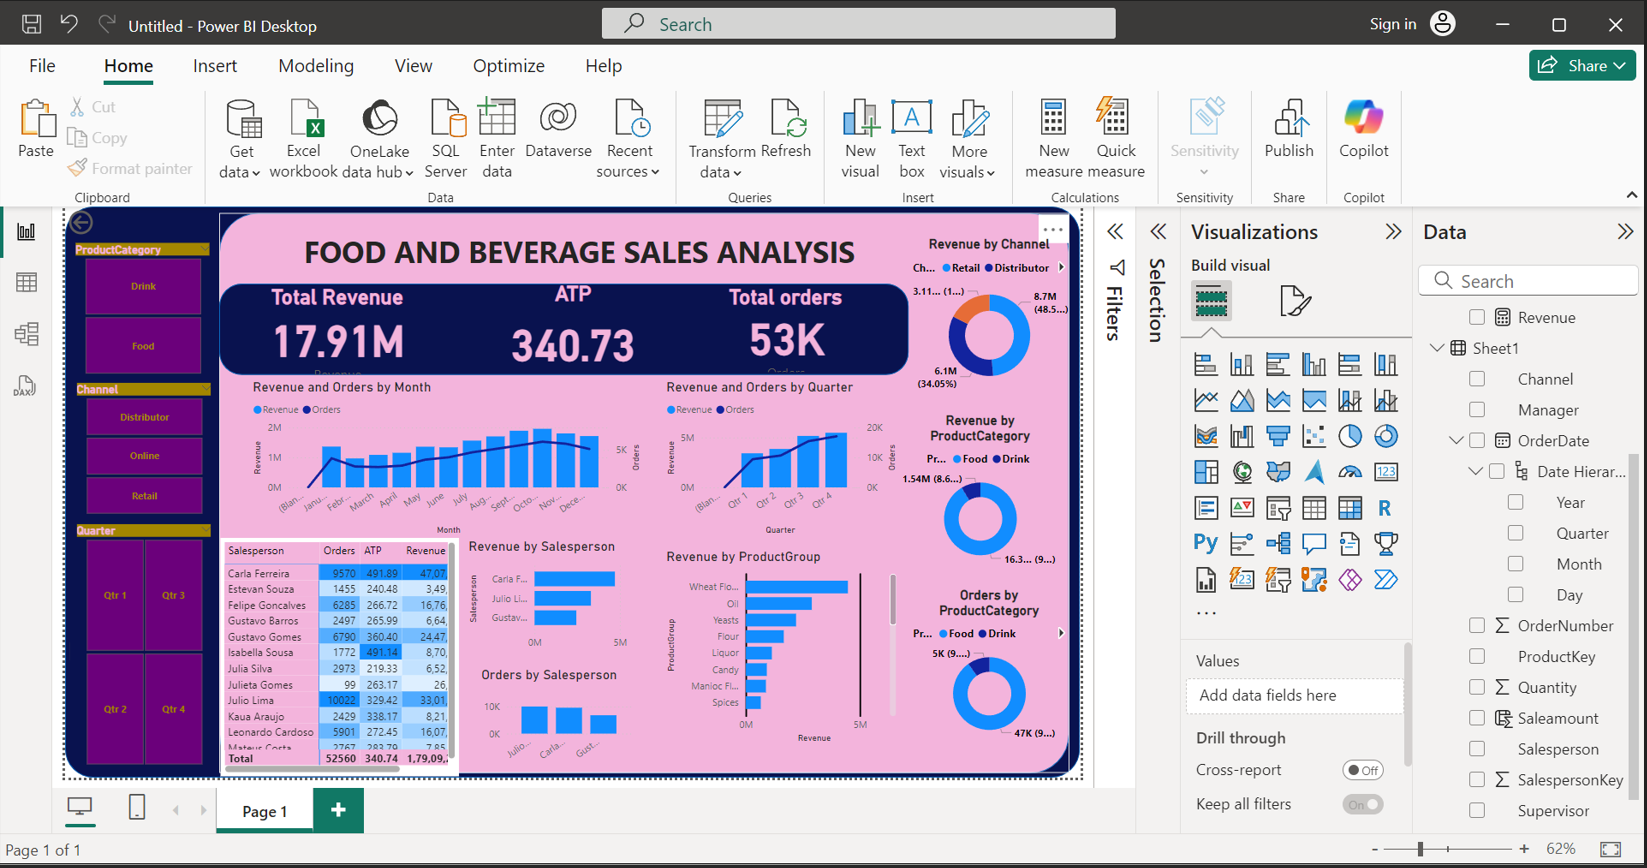

The page's visual inventory and layout, read from the dashboard file:
{"tool":"powerbi","page":{"name":"Page 1","canvas":[1280,720],"ordinal":0},"visuals":[{"type":"shape","box":[0,0,1279.4,720],"z":0},{"type":"shape","box":[194.6,7.6,1071.5,706.8],"z":1000},{"type":"shape","box":[194.6,96.4,869.3,115.3],"z":2000},{"type":"card","title":"Total Revenue","fields":{"Values":["Product.Revenue"]},"box":[194.3,98.8,297.9,118.2],"z":3000},{"type":"card","title":"ATP","fields":{"Values":["Product.ATP"]},"box":[503.2,93.9,273.6,118.2],"z":4000},{"type":"card","title":"Total orders","fields":{"Values":["Product.Orders"]},"box":[752.9,98.8,310.9,115],"z":5000},{"type":"donutChart","fields":{"Y":["Product.Revenue"],"Category":["Sheet1.Channel"]},"box":[1063.8,37.2,202.4,200.8],"z":6000},{"type":"donutChart","fields":{"Y":["Product.Revenue"],"Category":["Product.ProductCategory"]},"box":[1052.5,259.1,202.4,200.8],"z":7000},{"type":"donutChart","fields":{"Category":["Product.ProductCategory"],"Y":["Product.Orders"]},"box":[1063.8,479.3,202.4,200.8],"z":8000},{"type":"lineStackedColumnComboChart","fields":{"Y":["Product.Revenue"],"Y2":["Product.Orders"],"Category":["Sheet1.OrderDate.Variation.Date Hierarchy.Quarter"]},"box":[752.9,217,299.6,200.8],"z":9000},{"type":"barChart","fields":{"Y":["Product.Revenue"],"Category":["Product.ProductGroup"]},"box":[752.9,430.7,299.6,249.4],"z":10000},{"type":"lineStackedColumnComboChart","fields":{"Y":["Product.Revenue"],"Y2":["Product.Orders"],"Category":["Sheet1.OrderDate.Variation.Date Hierarchy.Month"]},"box":[231.5,217,498.7,200.8],"z":11000},{"type":"barChart","fields":{"Category":["Sheet1.Salesperson"],"Y":["Product.Revenue"]},"box":[503.9,418.3,231,149.4],"z":12000},{"type":"clusteredColumnChart","fields":{"Category":["Sheet1.Salesperson"],"Y":["Product.Orders"]},"box":[519.8,579.6,199.2,129.5],"z":13000},{"type":"pivotTable","fields":{"Rows":["Sheet1.Salesperson"],"Values":["Product.Orders","Product.ATP","Product.Revenue"]},"box":[195.2,418.3,300.8,300.8],"z":14000},{"type":"actionButton","box":[0,0,100,40],"z":15000},{"type":"slicer","fields":{"Values":["Product.ProductCategory"]},"box":[0,39.8,195.2,177.3],"z":16000},{"type":"slicer","fields":{"Values":["Sheet1.Channel"]},"box":[2,217.1,195.2,177.3],"z":17000},{"type":"slicer","fields":{"Values":["Sheet1.OrderDate.Variation.Date Hierarchy.Quarter"]},"box":[2,394.4,195.2,314.7],"z":18000},{"type":"textbox","box":[231,8,802.7,85.6],"z":19000}]}

Visuals, with their boxes on the page's 1280x720 design canvas (x1, y1, x2, y2). These are canvas units, not pixel positions in the 1647x868 screenshot, which may show the page scaled, cropped or inside an application window:
shape: bbox(0, 0, 1279, 720)
shape: bbox(195, 8, 1266, 714)
shape: bbox(195, 96, 1064, 212)
"Total Revenue" card: bbox(194, 99, 492, 217)
"ATP" card: bbox(503, 94, 777, 212)
"Total orders" card: bbox(753, 99, 1064, 214)
donutChart - Product.Revenue x Sheet1.Channel: bbox(1064, 37, 1266, 238)
donutChart - Product.Revenue x Product.ProductCategory: bbox(1052, 259, 1255, 460)
donutChart - Product.ProductCategory x Product.Orders: bbox(1064, 479, 1266, 680)
lineStackedColumnComboChart - Product.Revenue x Product.Orders: bbox(753, 217, 1052, 418)
barChart - Product.Revenue x Product.ProductGroup: bbox(753, 431, 1052, 680)
lineStackedColumnComboChart - Product.Revenue x Product.Orders: bbox(232, 217, 730, 418)
barChart - Sheet1.Salesperson x Product.Revenue: bbox(504, 418, 735, 568)
clusteredColumnChart - Sheet1.Salesperson x Product.Orders: bbox(520, 580, 719, 709)
pivotTable - Sheet1.Salesperson x Product.Orders: bbox(195, 418, 496, 719)
actionButton: bbox(0, 0, 100, 40)
slicer - Product.ProductCategory: bbox(0, 40, 195, 217)
slicer - Sheet1.Channel: bbox(2, 217, 197, 394)
slicer - Sheet1.OrderDate.Variation.Date Hierarchy.Quarter: bbox(2, 394, 197, 709)
textbox: bbox(231, 8, 1034, 94)
